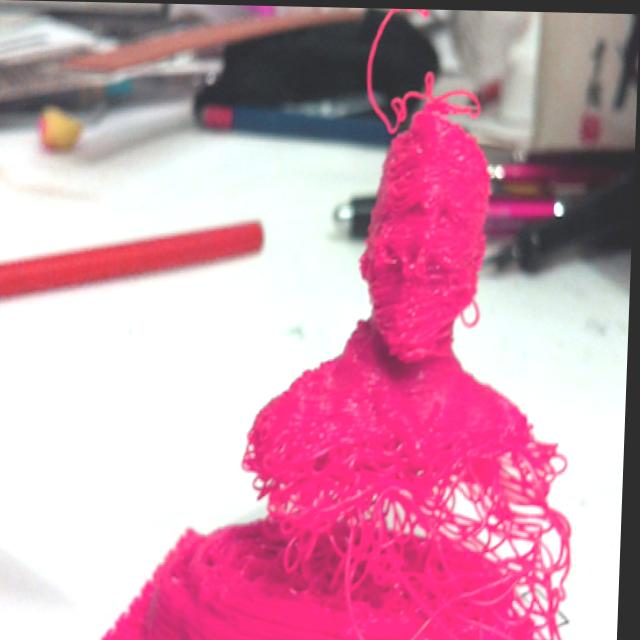spaghetti: (76, 7, 623, 640)
